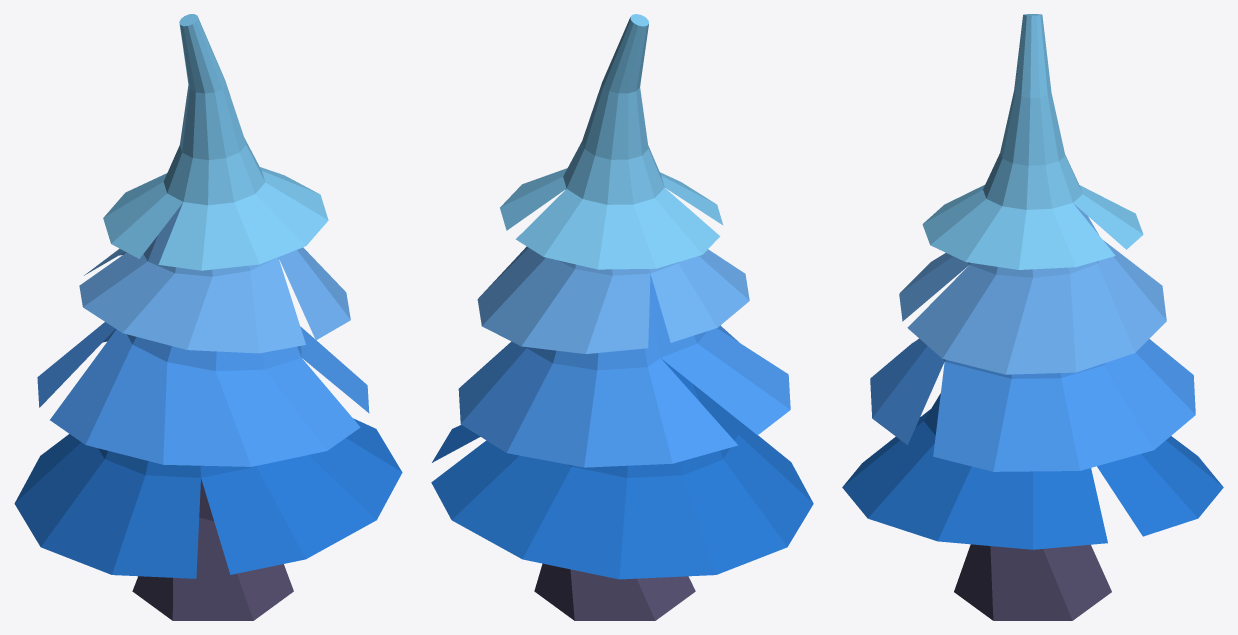
Rendered from Tree_2.fbx.
The picture shows the model from 3 angles, left to right: view 1: azimuth 30°, elevation 25°; view 2: azimuth 150°, elevation 25°; view 3: azimuth 270°, elevation 25°; orthographic projection. The views are drawn at different scales.
Parts seen in each view (by area): view 1: Tree_2.001; view 2: Tree_2.001; view 3: Tree_2.001.
Part boxes in pixels (box(x1,y1,x2,y2)): Tree_2.001: box(14, 14, 402, 620); Tree_2.001: box(431, 14, 813, 620); Tree_2.001: box(842, 14, 1223, 620).
Bounding box in the file's own units: 3.55 × 5.86 × 3.56.
Materials: 1 (1 with a texture image).
